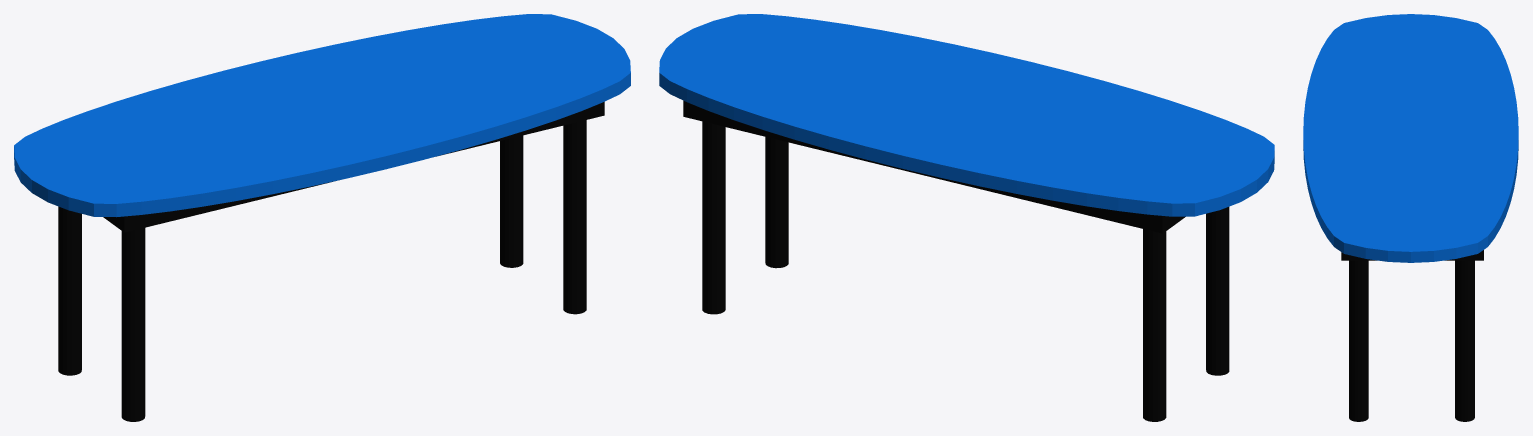
The model's file is sweethome3d-katorlegaz-bench-49.glb.
The picture shows the model from 3 angles, left to right: view 1: azimuth 30°, elevation 25°; view 2: azimuth 150°, elevation 25°; view 3: azimuth 270°, elevation 25°; orthographic projection. The views are drawn at different scales.
Visible parts, largest first — view 1: Bench_Bench_Counters, Bench_Bench_Black_paint; view 2: Bench_Bench_Counters, Bench_Bench_Black_paint; view 3: Bench_Bench_Counters, Bench_Bench_Black_paint.
Part boxes in pixels (x1,y1,x2,y2): Bench_Bench_Counters: [14, 14, 630, 217]; Bench_Bench_Black_paint: [58, 102, 604, 421]; Bench_Bench_Counters: [659, 14, 1274, 216]; Bench_Bench_Black_paint: [683, 100, 1229, 421]; Bench_Bench_Counters: [1303, 14, 1518, 262]; Bench_Bench_Black_paint: [1341, 250, 1483, 421].
Size of the model in its own units: 7.97 by 3.03 by 3.05.
